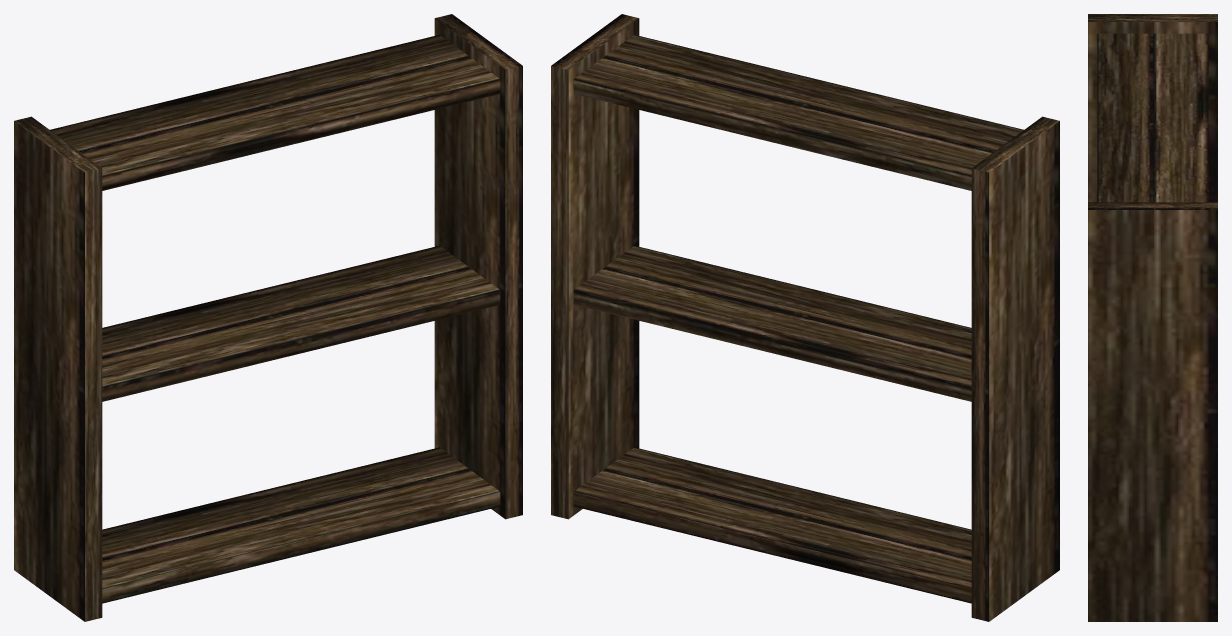
File: OC_MOB_SHELVES_MEDIUM.glb
The picture shows the model from 3 angles, left to right: view 1: azimuth 30°, elevation 25°; view 2: azimuth 150°, elevation 25°; view 3: azimuth 270°, elevation 25°; orthographic projection. The views are drawn at different scales.
Parts seen in each view (by area): view 1: Mesh; view 2: Mesh; view 3: Mesh.
Part boxes in pixels (x1,y1,x2,y2): Mesh: (14,14,522,621); Mesh: (551,14,1059,621); Mesh: (1088,14,1217,621).
Size of the model in its own units: 2.5 by 2.45 by 0.7.
1 material, 1 textured.
